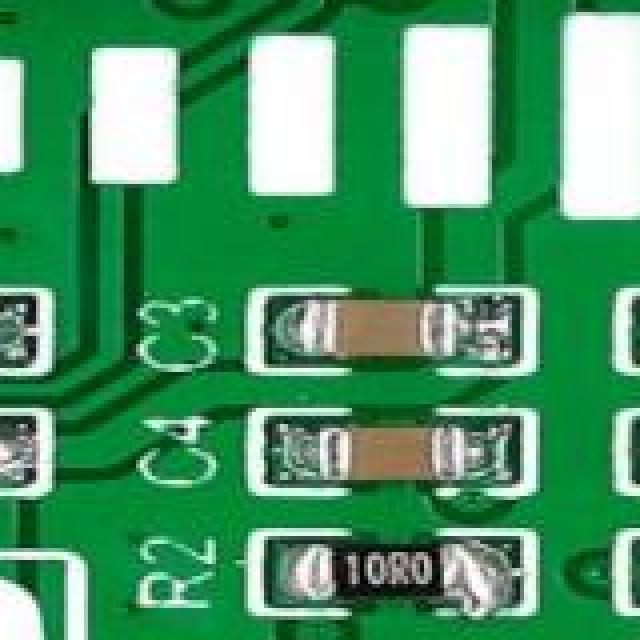capacitor: (304, 304, 516, 382), (316, 428, 500, 502), (0, 300, 4, 368)
resistor: (276, 548, 484, 612), (0, 416, 12, 480)
